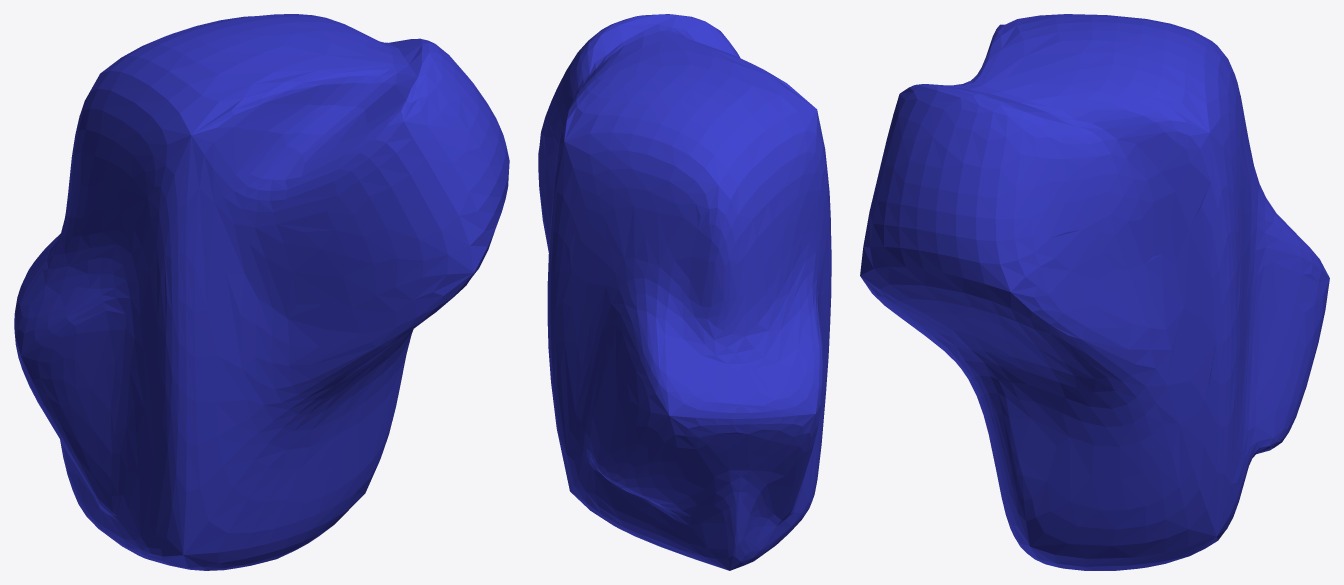
3 renders of one model, left to right at view 1: azimuth 30°, elevation 25°; view 2: azimuth 150°, elevation 25°; view 3: azimuth 270°, elevation 25°, orthographic. The views are drawn at different scales.
Visible parts, largest first — view 1: 283_Cube.1159; view 2: 283_Cube.1159; view 3: 283_Cube.1159.
Part boxes in pixels (x1,y1,x2,y2): 283_Cube.1159: (14,14,509,570); 283_Cube.1159: (538,14,831,570); 283_Cube.1159: (860,14,1329,570).
Bounding box in the file's own units: 9.73 × 11.84 × 9.62.
